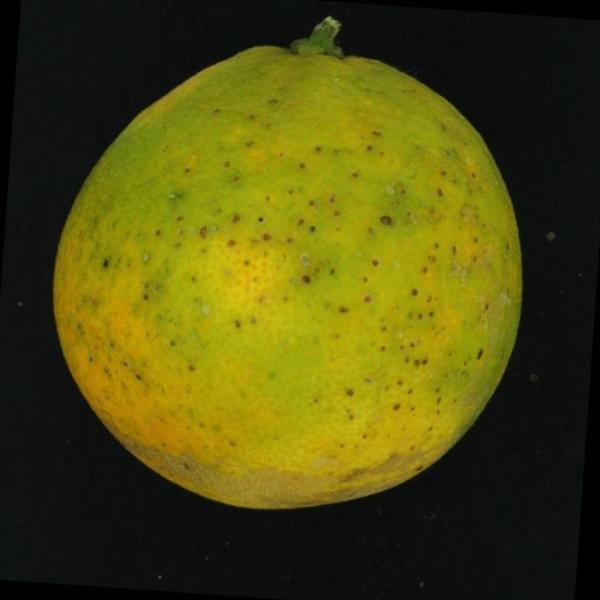Greening: (39, 11, 537, 524)
